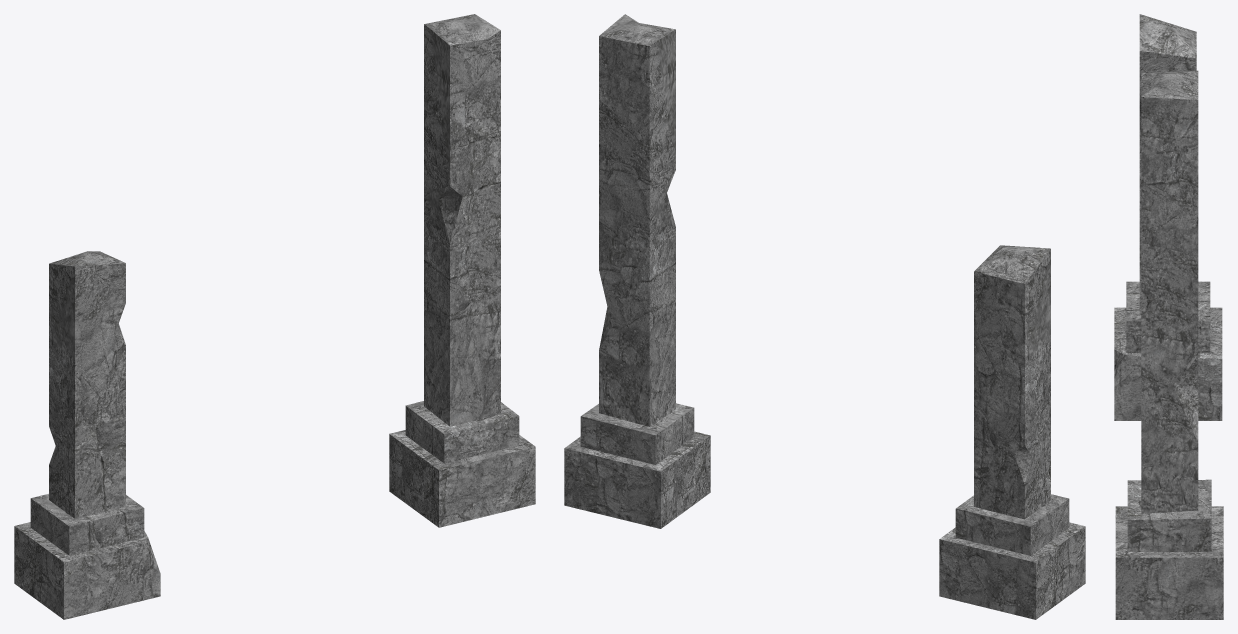
The model's file is materials_3_gate_5.fbx.
3 views of the same model, side by side, from view 1: azimuth 30°, elevation 25°; view 2: azimuth 150°, elevation 25°; view 3: azimuth 270°, elevation 25° (orthographic). The views are drawn at different scales.
Parts seen in each view (by area): view 1: materials_3_gate_5; view 2: materials_3_gate_5; view 3: materials_3_gate_5.
Boxes of the visible parts, x1=… form: materials_3_gate_5: x1=14, y1=14, x2=535, y2=619; materials_3_gate_5: x1=564, y1=14, x2=1085, y2=619; materials_3_gate_5: x1=1114, y1=14, x2=1223, y2=619.
Size of the model in its own units: 253 by 244 by 46.88.
